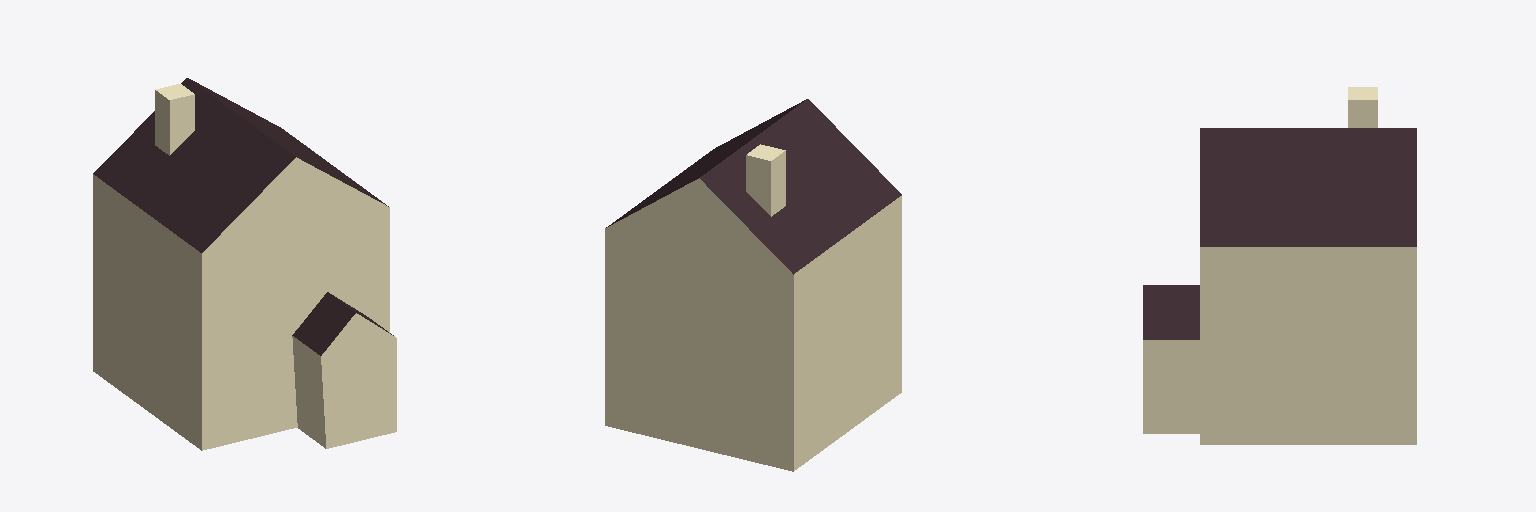
File: house.obj
The picture shows the model from 3 angles: view 1: azimuth 30°, elevation 25°; view 2: azimuth 150°, elevation 25°; view 3: azimuth 270°, elevation 25°; orthographic projection.
Visible parts, largest first — view 1: pCube1, pasted__pCube1 group, pCube2; view 2: pCube1, pCube2; view 3: pCube1, pasted__pCube1 group, pCube2.
Boxes of the visible parts, x1=… form: pCube1: x1=93, y1=78, x2=389, y2=450; pasted__pCube1 group: x1=292, y1=292, x2=396, y2=448; pCube2: x1=155, y1=84, x2=194, y2=155; pCube1: x1=605, y1=99, x2=901, y2=471; pCube2: x1=746, y1=144, x2=785, y2=216; pCube1: x1=1200, y1=128, x2=1416, y2=444; pasted__pCube1 group: x1=1143, y1=285, x2=1199, y2=433; pCube2: x1=1348, y1=87, x2=1377, y2=127.
Size of the model in its own units: 1 by 1.45 by 1.26.